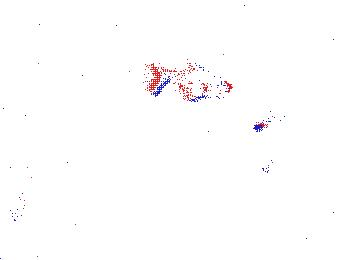X-ray fish: (8, 181, 31, 223)
red belly glassfish: (261, 142, 282, 175), (253, 112, 274, 133)
redtail glassfish: (151, 54, 233, 106)
